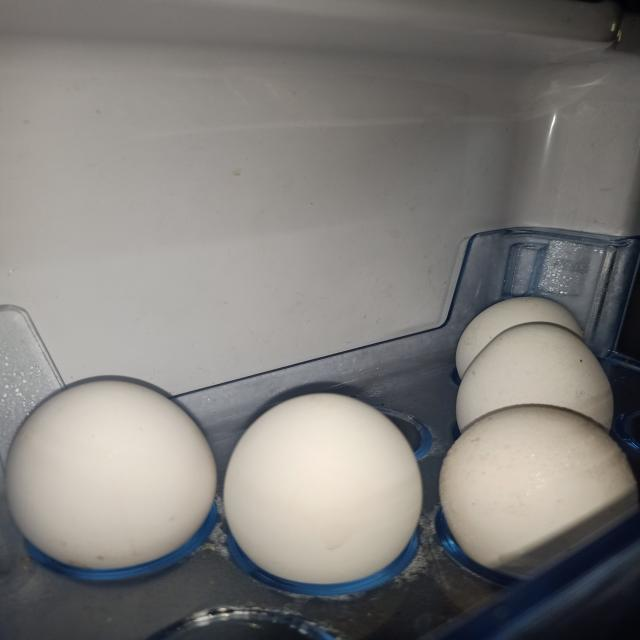Egg: (5, 381, 215, 570), (223, 394, 422, 585), (440, 406, 636, 568), (456, 297, 614, 431), (456, 297, 583, 377)
